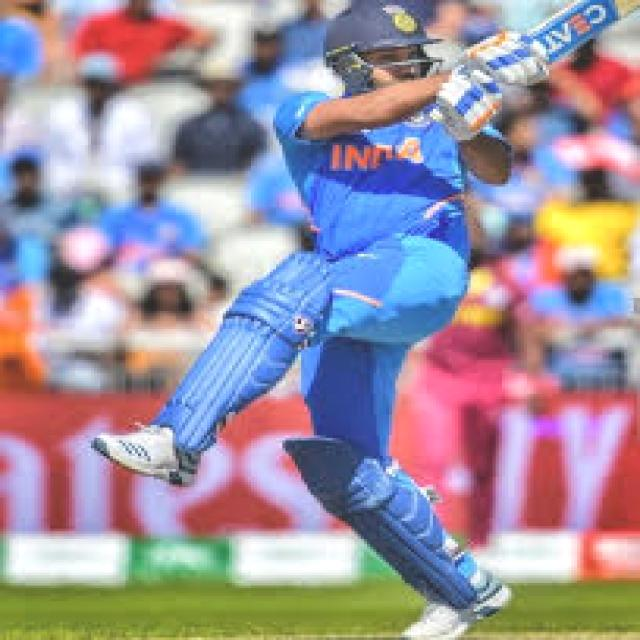toe: (588, 0, 640, 16)
